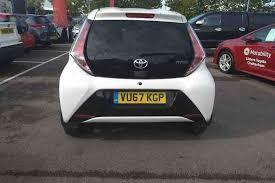licence-plate: (114, 90, 168, 105)
